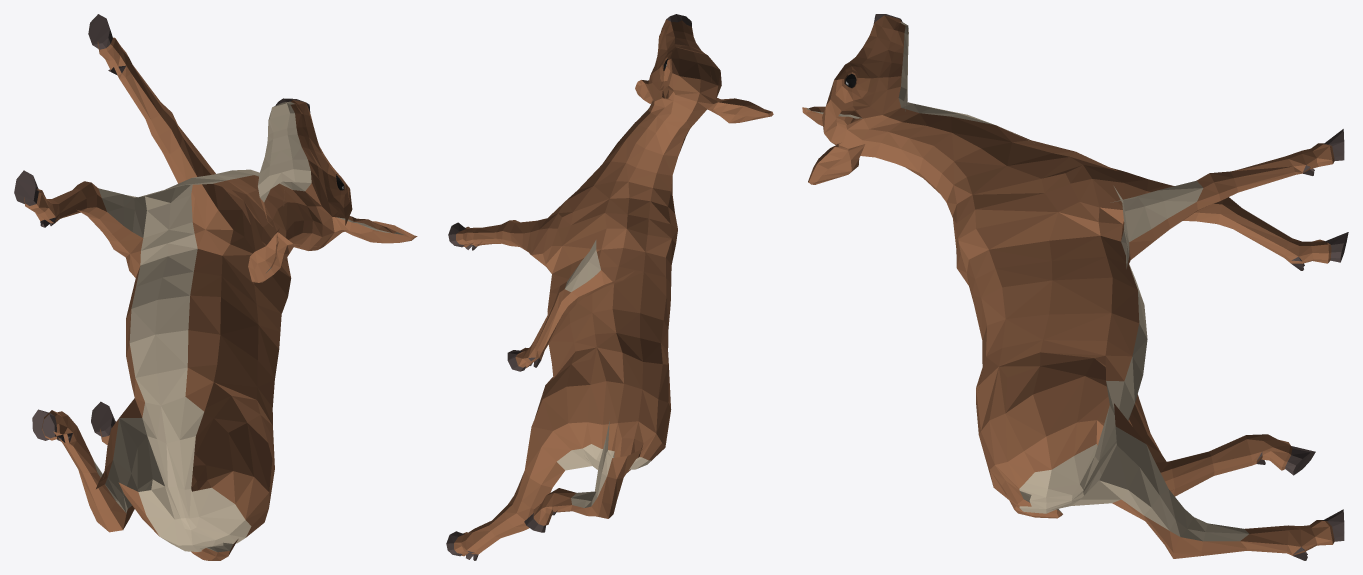
Rendered from deer-walk-3.glb.
3 renders of one model, left to right at view 1: azimuth 30°, elevation 25°; view 2: azimuth 150°, elevation 25°; view 3: azimuth 270°, elevation 25°, orthographic. The views are drawn at different scales.
Bounding box in the file's own units: 0.4818 × 1.48 × 1.39.
